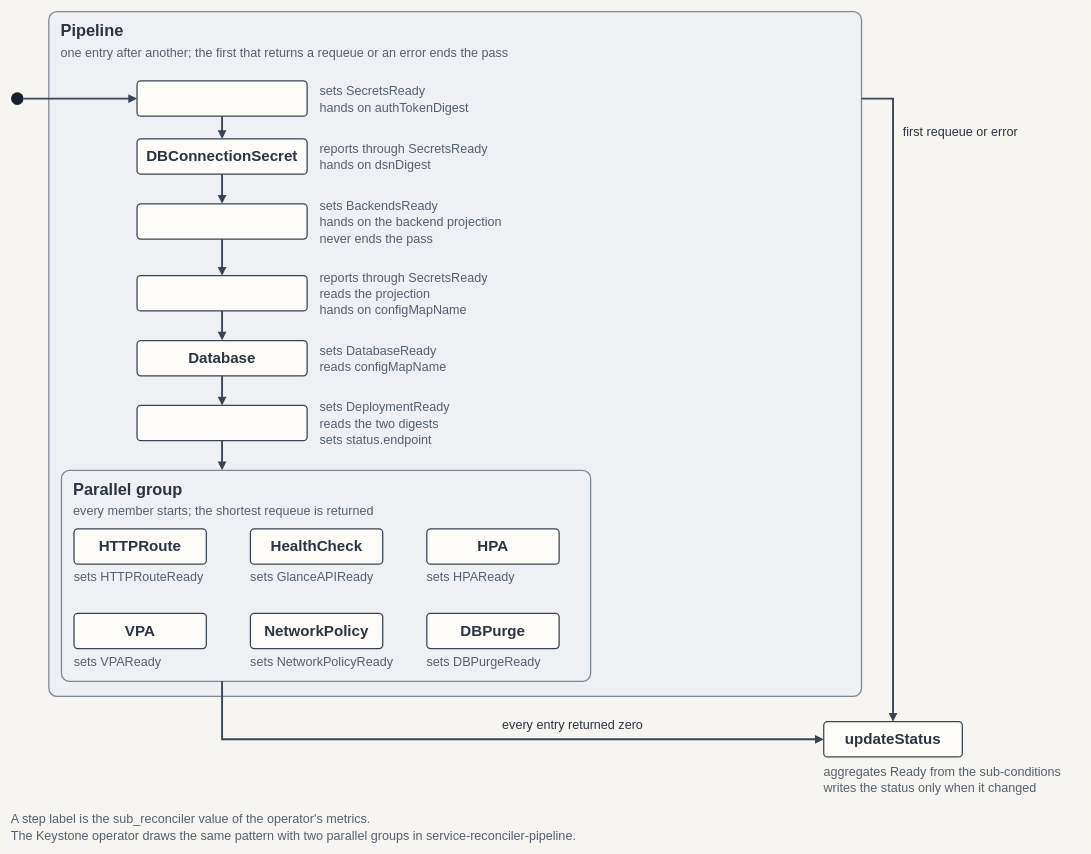
The diagram is 1091 pixels wide and 854 high, and some of its shapes have lost their labels. Each missing label, with the centre of its shape:
"Backends" goes at pixel 221 221.
"Config" goes at pixel 221 293.
"Deployment" goes at pixel 221 422.
"Secrets" goes at pixel 221 98.
